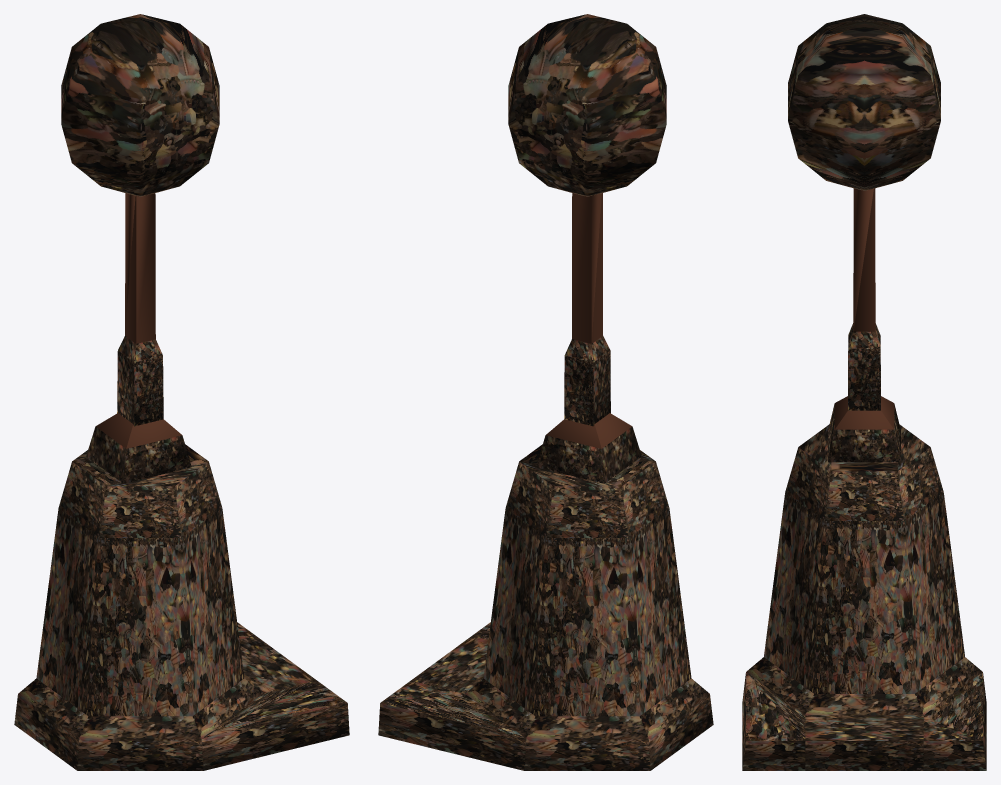
The model's file is LampPost.obj.
3 views of the same model, side by side, from view 1: azimuth 30°, elevation 25°; view 2: azimuth 150°, elevation 25°; view 3: azimuth 270°, elevation 25° (orthographic). The views are drawn at different scales.
Visible parts, largest first — view 1: Object_2; view 2: Object_2; view 3: Object_2.
Boxes of the visible parts, x1,y1,x2,y2 form: Object_2: (14,14,349,770); Object_2: (378,14,713,770); Object_2: (742,14,986,770).
Size of the model in its own units: 6.59 by 18.37 by 5.98.
